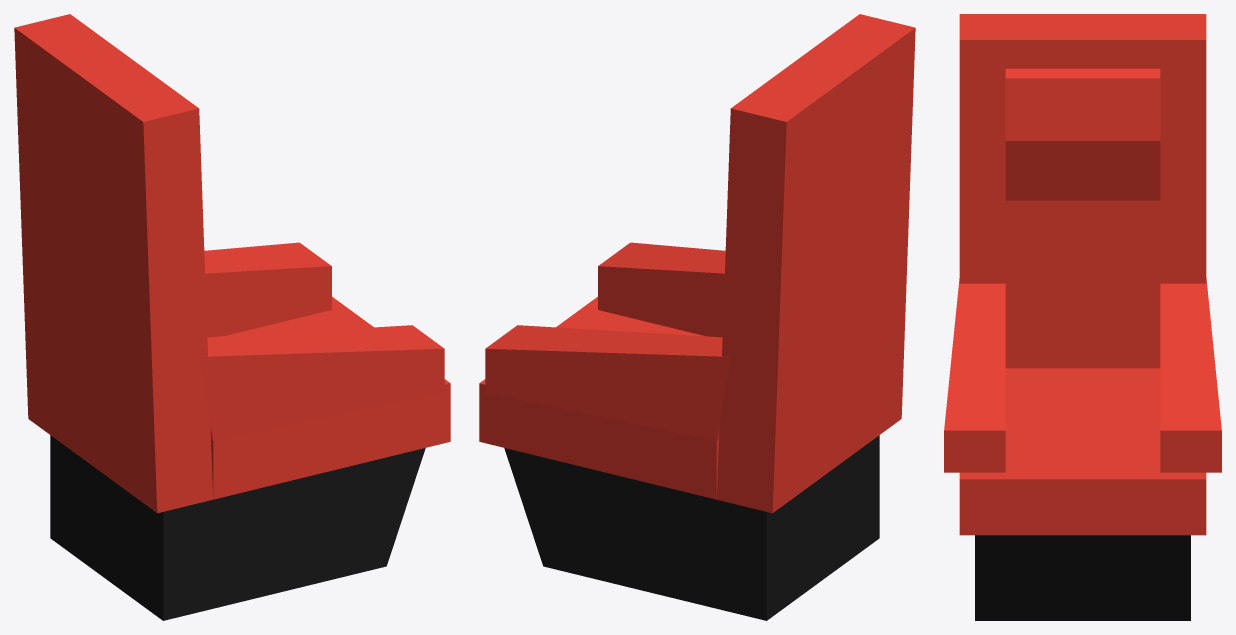
The model's file is theatre_seat.gltf.
3 renders of one model, left to right at view 1: azimuth 30°, elevation 25°; view 2: azimuth 150°, elevation 25°; view 3: azimuth 270°, elevation 25°, orthographic. The views are drawn at different scales.
Parts seen in each view (by area): view 1: group2105590044, group267084990, group975455076, group1602274213, group549880947; view 2: group2105590044, group267084990, group549880947, group1602274213, group975455076; view 3: group2105590044, group1602274213, group74679583, group267084990, group549880947, group975455076.
Boxes of the visible parts, x1,y1,x2,y2 form: group2105590044: (14,14,213,513); group267084990: (50,435,425,620); group975455076: (199,325,444,441); group1602274213: (211,296,450,499); group549880947: (204,242,331,337); group2105590044: (716,14,915,513); group267084990: (504,435,879,620); group549880947: (485,325,730,441); group1602274213: (479,296,718,499); group975455076: (598,242,725,337); group2105590044: (959,14,1206,368); group1602274213: (959,368,1206,535); group74679583: (1005,68,1160,200); group267084990: (975,535,1190,620); group549880947: (1160,278,1221,472); group975455076: (944,278,1005,472).
Bounding box in the file's own units: 0.22 × 0.35 × 0.18.
